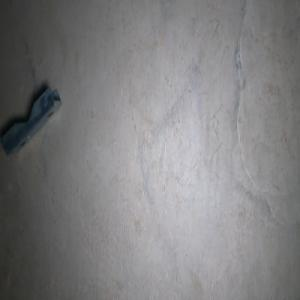ClampPart: (0, 86, 63, 157)
